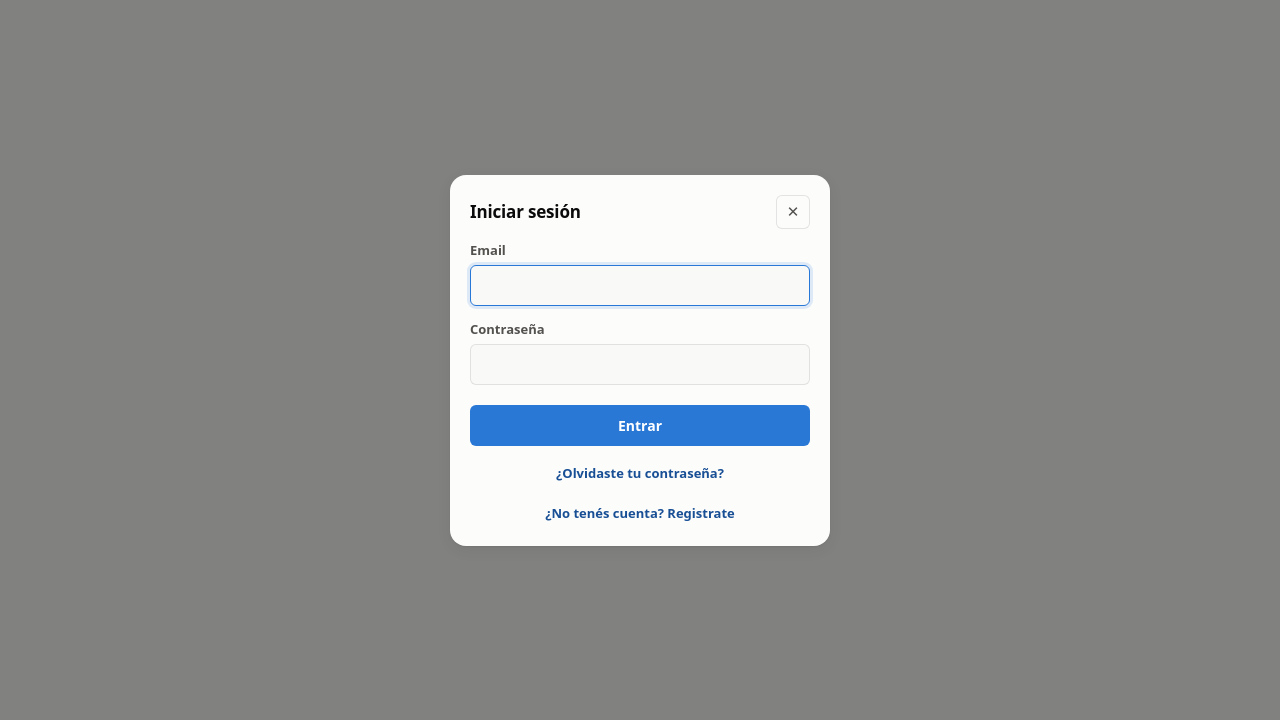
AuthModal › si la cuenta no está verificada, muestra el link de reenvío y lo hace funcionar
Type "sinverificar@example.com" into the field labelled "Email" at (640, 285), box [470,264,810,306]
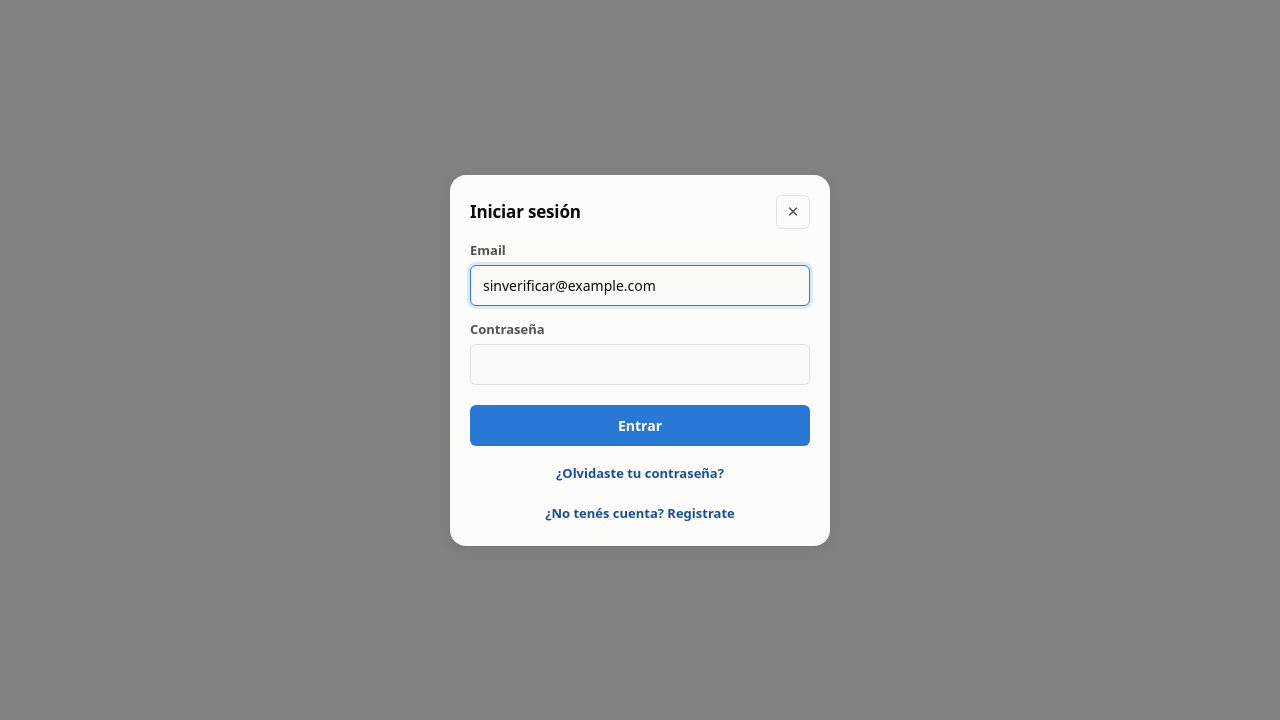
Type "supersecreta123" into the password field labelled "Contraseña" at (640, 364), box [470,344,810,384]
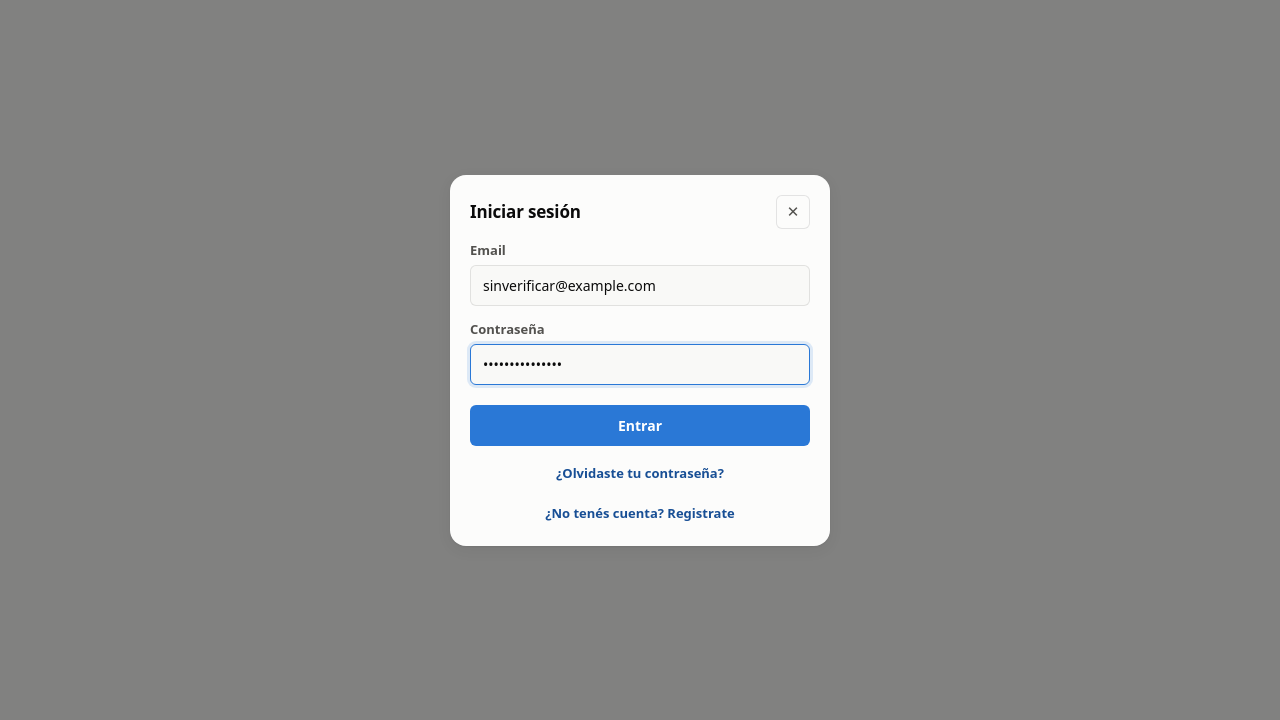
Click the button "Entrar" at (640, 425), box [470,404,810,446]
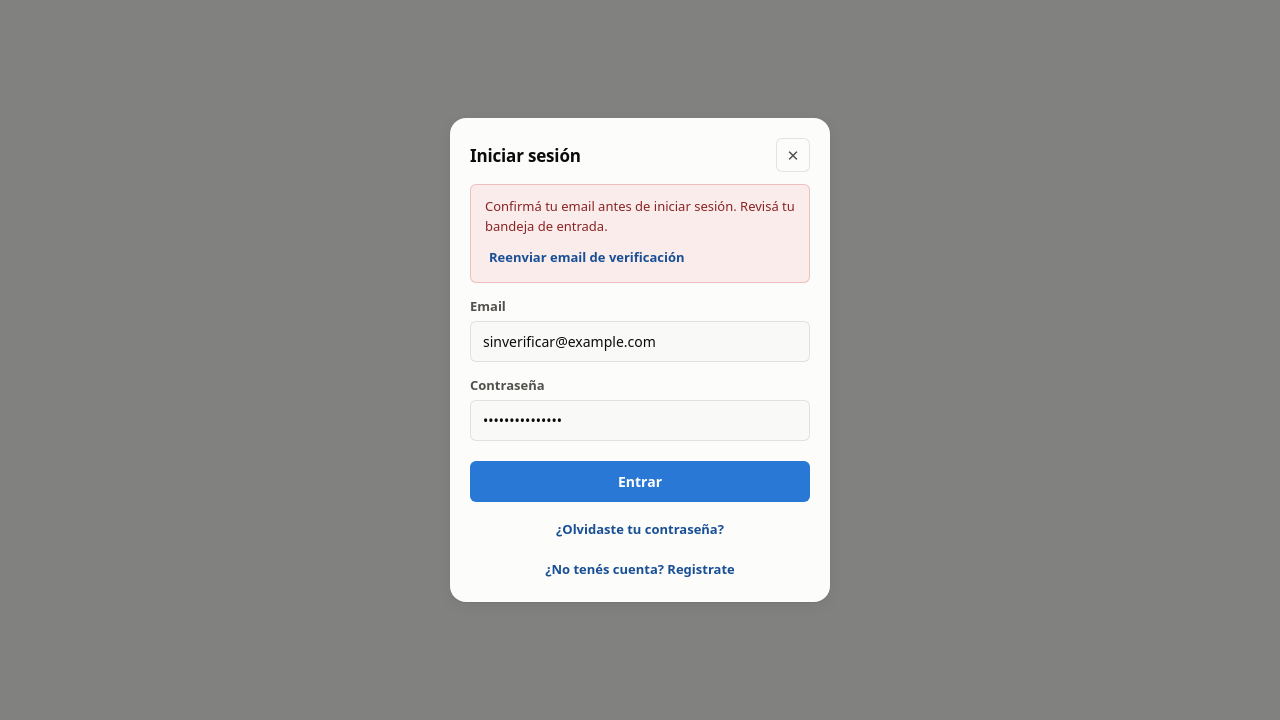
expect the text "Confirmá tu email antes de iniciar sesión. Revisá tu bandeja de entrada." is shown: met, box [485,197,795,234]
Click the button "Reenviar email de verificación" at (587, 257), box [485,244,689,270]
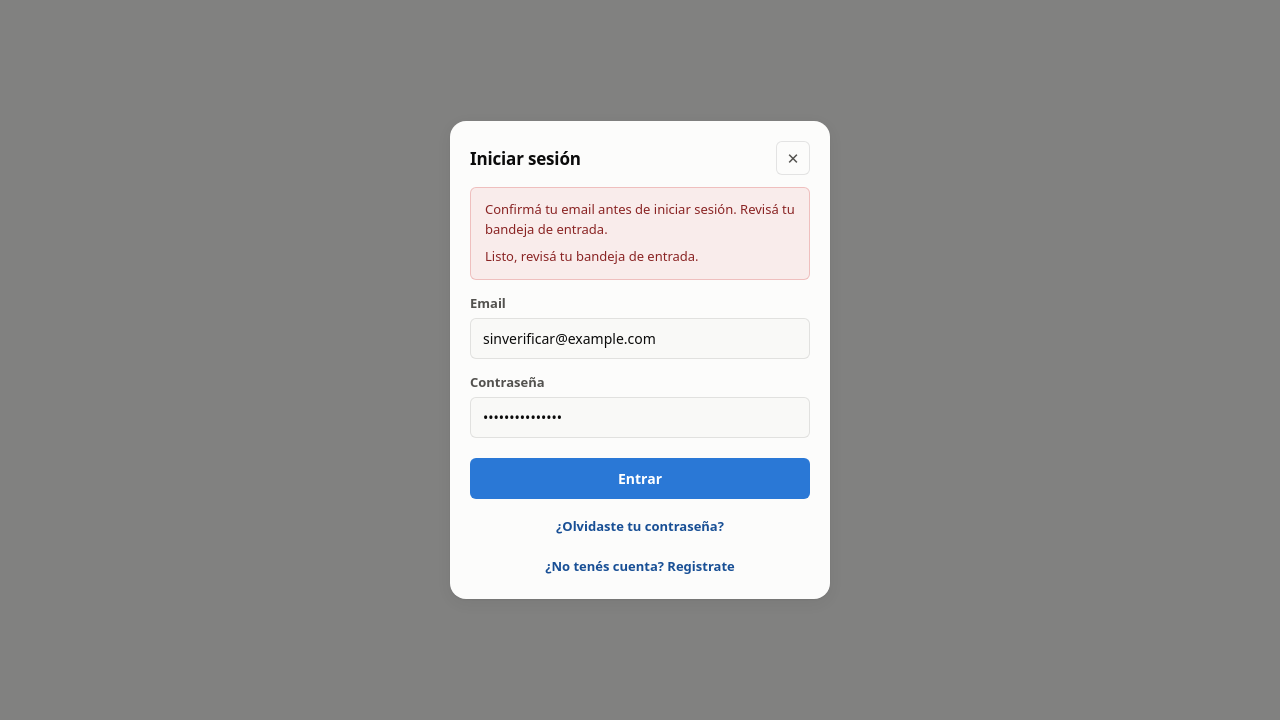
expect the text "Listo, revisá tu bandeja de entrada." is shown: met, box [485,247,699,265]
